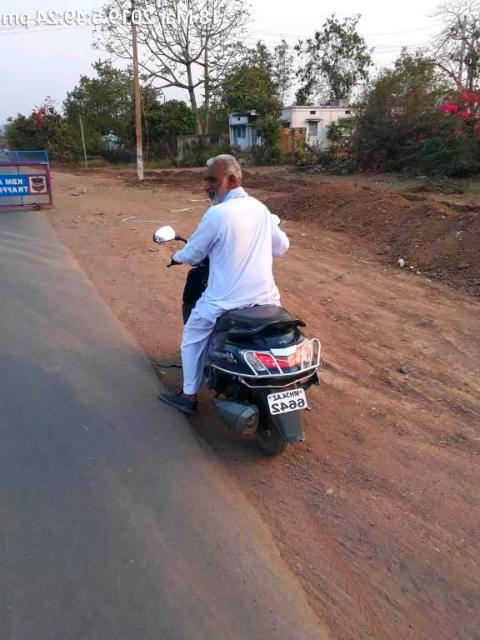motor: (183, 262, 322, 459)
non-helm: (205, 156, 243, 206)
